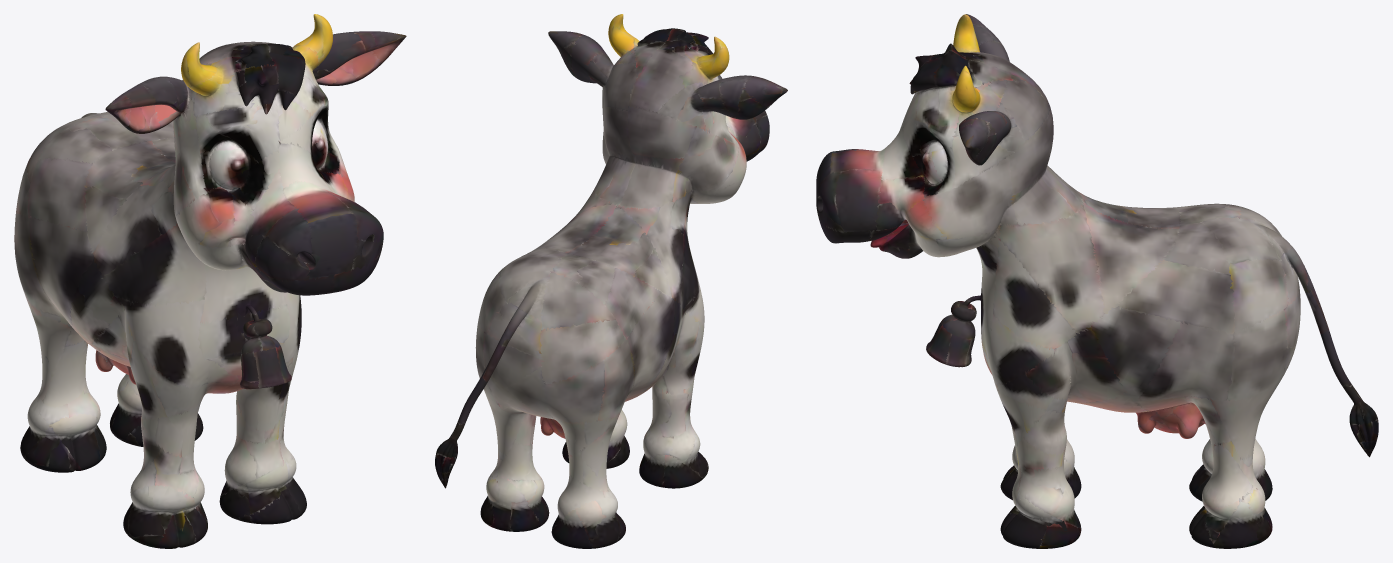
The model's file is cow.glb.
3 renders of one model, left to right at view 1: azimuth 30°, elevation 25°; view 2: azimuth 150°, elevation 25°; view 3: azimuth 270°, elevation 25°, orthographic. The views are drawn at different scales.
Bounding box in the file's own units: 1.06 × 1.76 × 1.9.
Materials: 1 (1 with a texture image).
